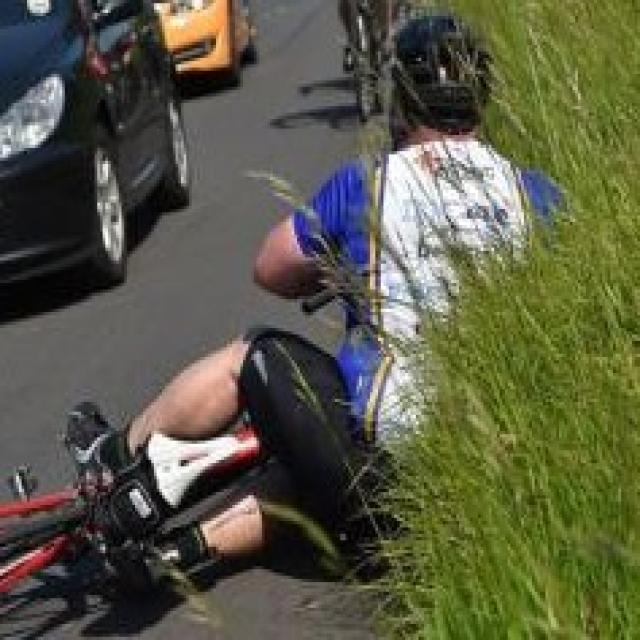Fall: (62, 12, 585, 611)
